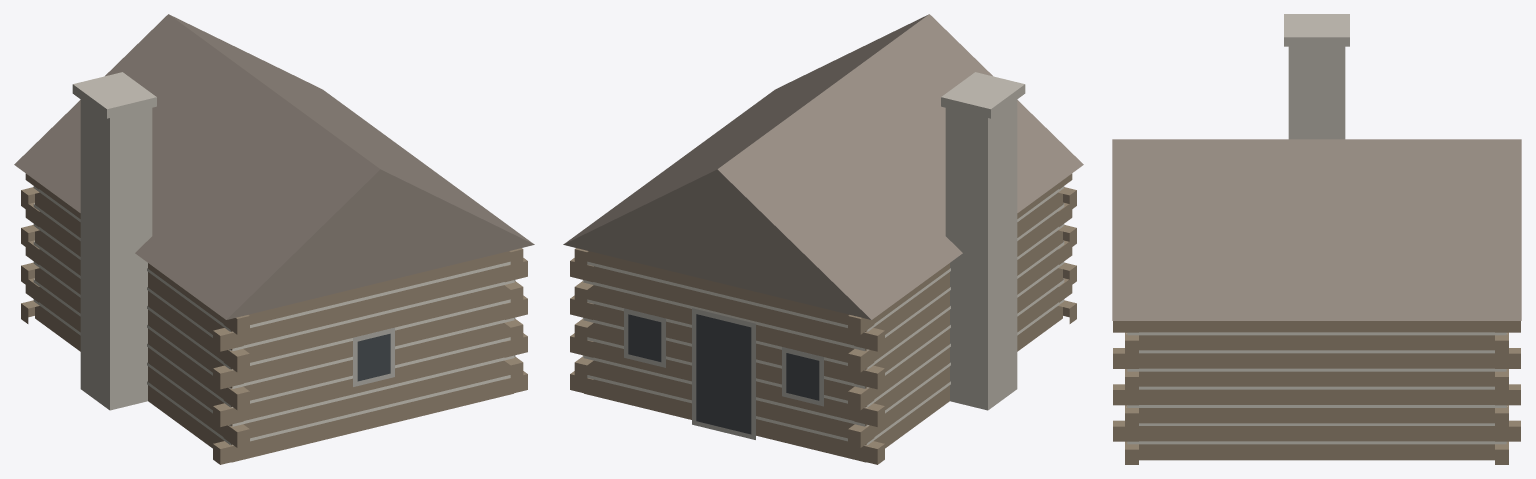
The model's file is recon_1835_north_d1_053__inferred_1835.glb.
3 views of the same model, side by side, from view 1: azimuth 30°, elevation 25°; view 2: azimuth 150°, elevation 25°; view 3: azimuth 270°, elevation 25° (orthographic). The views are drawn at different scales.
Visible parts, largest first — view 1: recon_1835_north_d1_053__inferred_1835; view 2: recon_1835_north_d1_053__inferred_1835; view 3: recon_1835_north_d1_053__inferred_1835.
Boxes of the visible parts, <box> form: recon_1835_north_d1_053__inferred_1835: <box>14,14,534,464</box>; recon_1835_north_d1_053__inferred_1835: <box>563,14,1083,464</box>; recon_1835_north_d1_053__inferred_1835: <box>1112,14,1521,464</box>.
Size of the model in its own units: 6.39 by 5.55 by 6.93.
